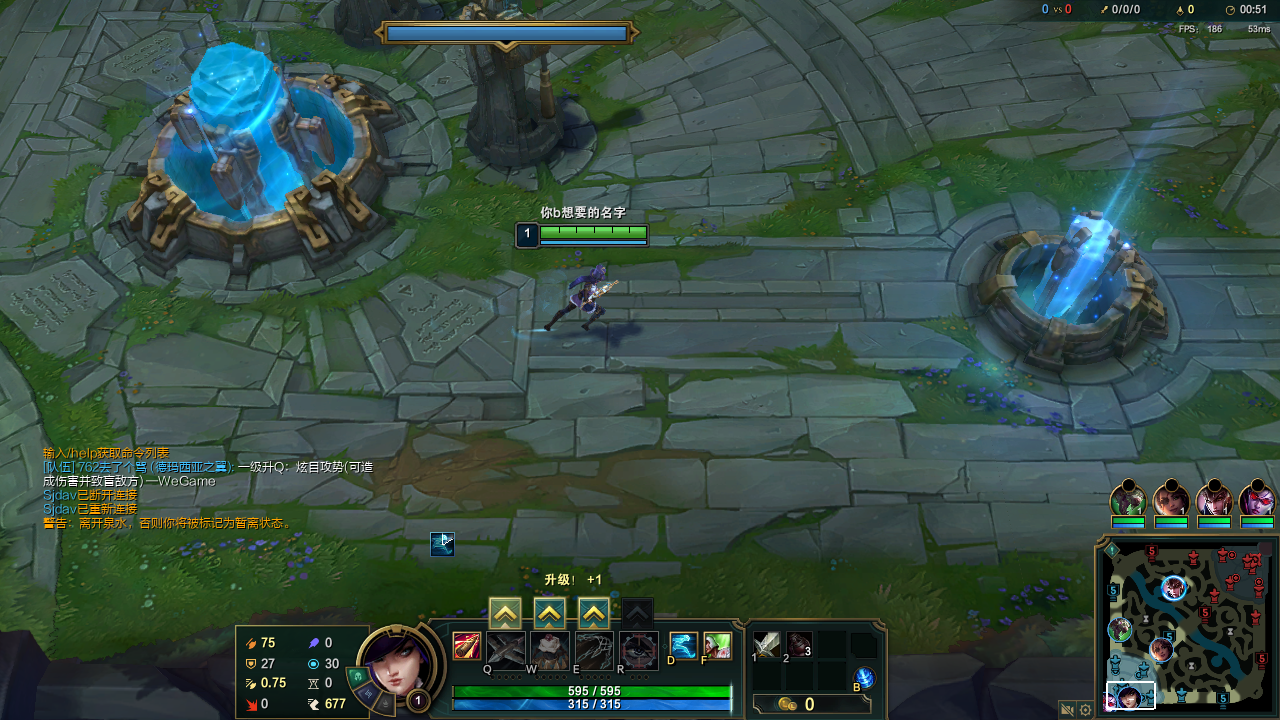Shenji: (538, 604, 561, 625), (581, 601, 602, 623)
Tuijianshengji: (491, 604, 522, 626)
WFSJ: (135, 54, 385, 257)
Yita: (1217, 688, 1231, 709)
